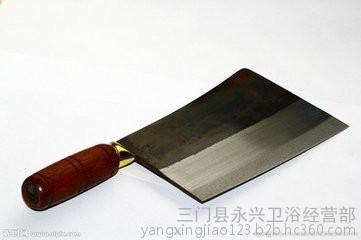knief: (22, 63, 352, 217)
